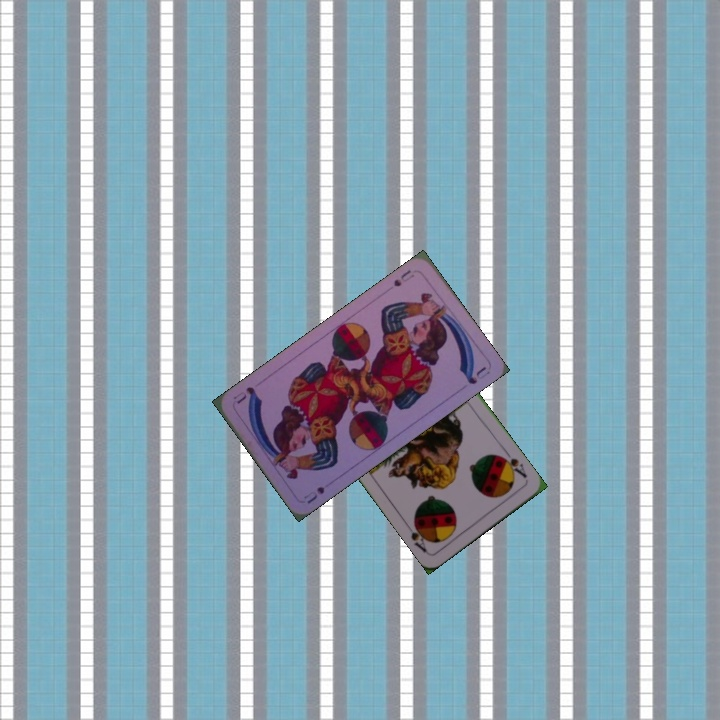SA: (496, 447, 530, 480)
SU: (300, 482, 327, 507), (389, 266, 417, 289)
